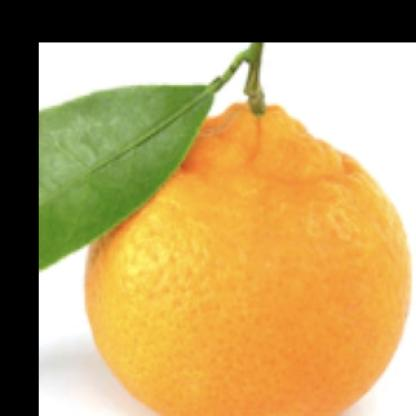fresh: (83, 80, 416, 416)
